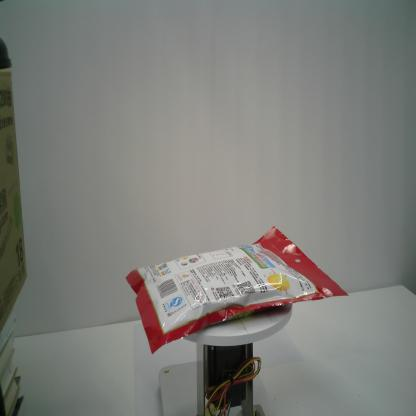Instant Drink: (124, 224, 351, 358)
